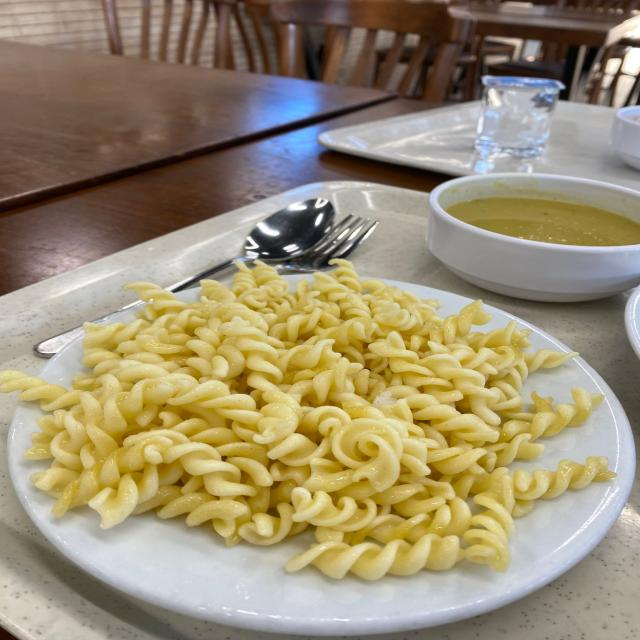ana_yemek: (2, 256, 618, 582)
